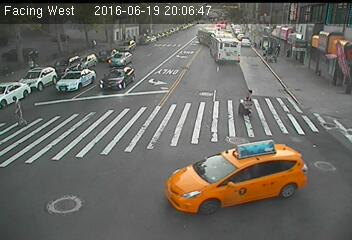neg: (90, 69, 109, 95), (61, 42, 80, 66), (100, 32, 115, 52), (60, 29, 71, 44)
pos: (238, 84, 259, 112), (5, 91, 26, 119)
